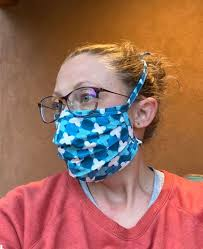masked: (44, 45, 154, 183)
